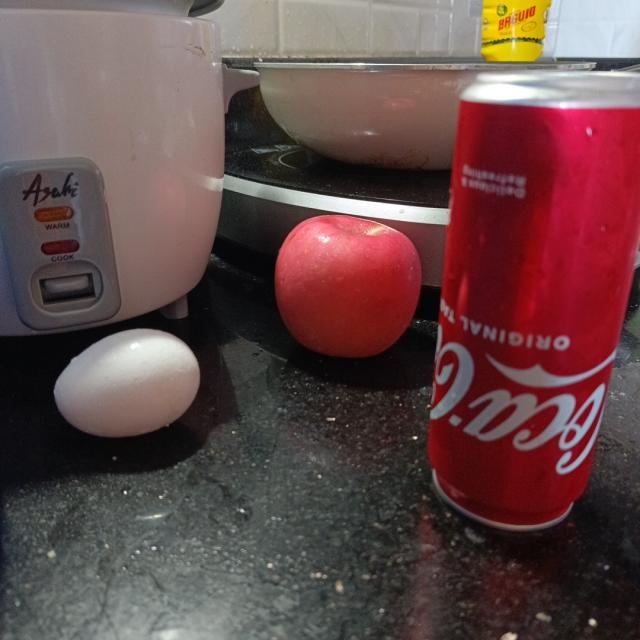apple: (276, 214, 422, 355)
coke: (428, 70, 640, 528)
egg: (54, 328, 199, 434)
